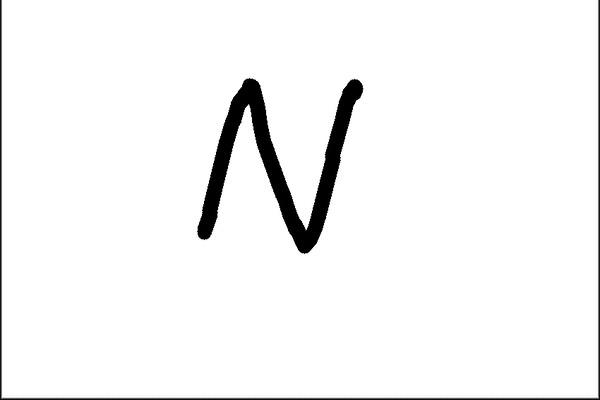N: (192, 68, 369, 259)
